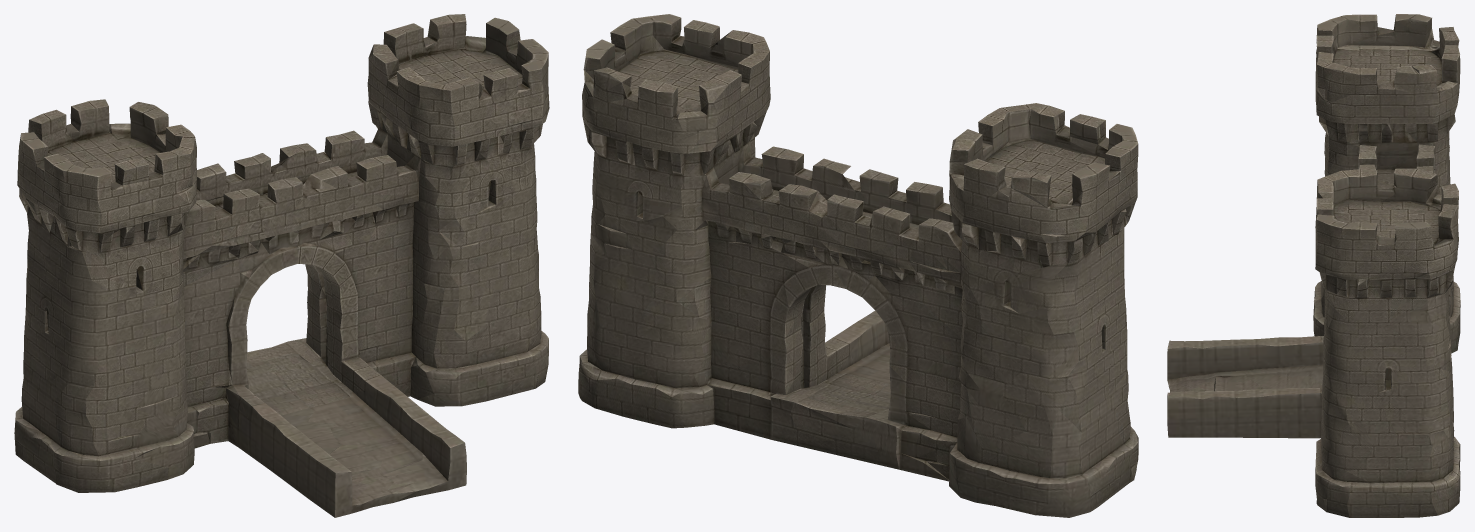
File: inner_gate.glb
The picture shows the model from 3 angles, left to right: view 1: azimuth 30°, elevation 25°; view 2: azimuth 150°, elevation 25°; view 3: azimuth 270°, elevation 25°; orthographic projection. The views are drawn at different scales.
Parts seen in each view (by area): view 1: output_unwrapped; view 2: output_unwrapped; view 3: output_unwrapped.
Part boxes in pixels (x1=…): output_unwrapped: x1=14, y1=14, x2=549, y2=517; output_unwrapped: x1=578, y1=14, x2=1138, y2=517; output_unwrapped: x1=1167, y1=14, x2=1460, y2=517.
Size of the model in its own units: 1.9 by 1.2 by 1.09.
Materials: 1 (1 with a texture image).
